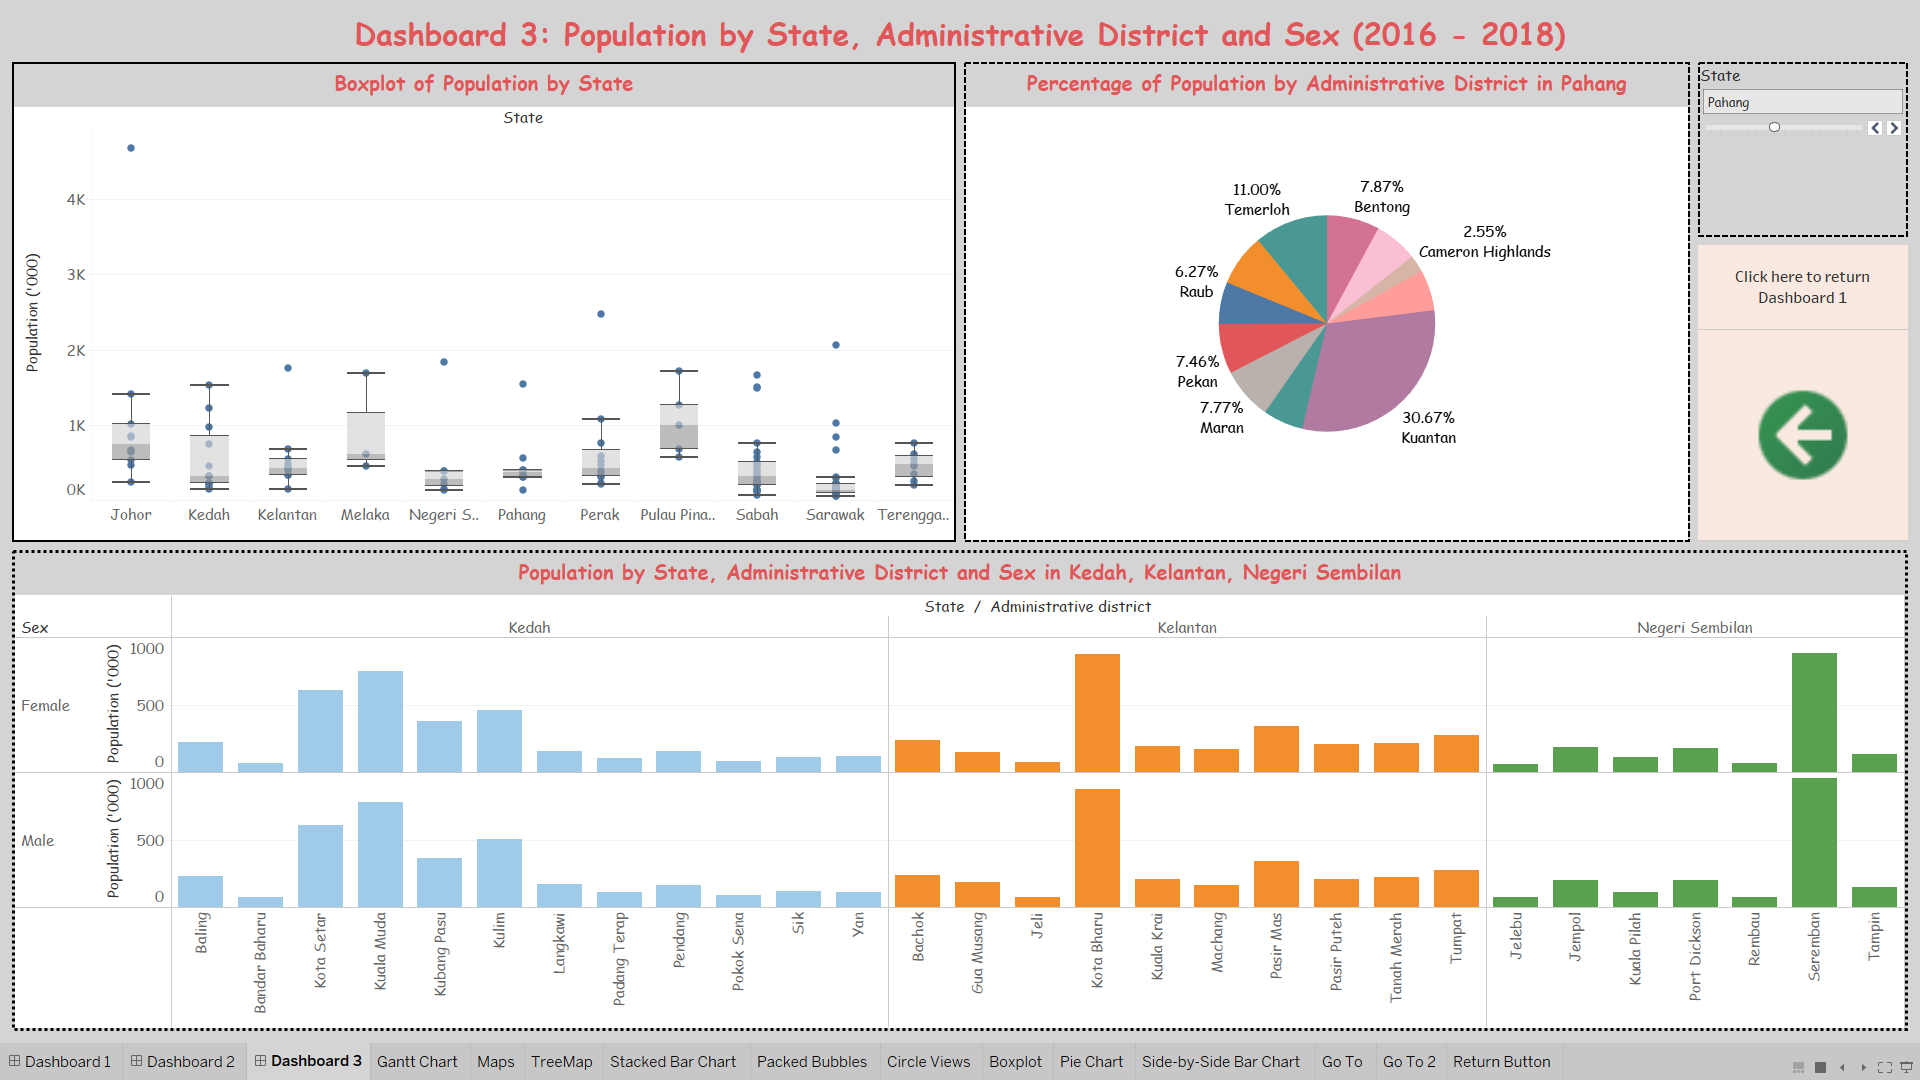

What the dashboard file says about the page in this screenshot:
{"tool":"tableau","page":{"name":"Dashboard 3","canvas":[1000,1000],"units":"permille","ordinal":2},"visuals":[{"type":"worksheet","box":[0,0,1000,1000]},{"type":"worksheet","param":"vert","box":[4.8,9.2,990.3,981.7]},{"type":"worksheet","box":[4.8,9.2,990.3,57.3]},{"type":"worksheet","param":"horz","box":[4.8,66.4,990.3,924.4]},{"type":"worksheet","param":"horz","box":[4.8,66.4,990.3,924.4]},{"type":"worksheet","box":[4.8,66.4,990.3,924.4]},{"type":"worksheet","title":"Boxplot","mark":"Circle","rows":["Population ('000)"],"cols":["State"],"box":[4.8,66.4,495.2,462.2]},{"type":"worksheet","title":"Pie Chart","mark":"Pie","box":[500,66.4,381.7,462.2]},{"type":"worksheet","param":"vert","box":[881.7,66.4,113.5,462.2]},{"type":"worksheet","title":"Pie Chart","mark":"Pie","param":"[federated.0jr2auv1nwskjz16j5b7o0mq9nzm].[none:State:nk]","box":[881.7,66.4,113.5,209.6]},{"type":"worksheet","title":"Return Button","mark":"Shape","cols":["Calculation_1950058685120786434"],"box":[881.7,276.1,113.5,252.6]},{"type":"worksheet","title":"Side-by-Side Bar Chart","mark":"Automatic","rows":["Sex","Population ('000)"],"cols":["State","Administrative district"],"box":[4.8,528.6,990.3,462.2]}]}

Visuals, with their boxes on the dashboard's canvas, which has no fixed pixel size, in thousandths of its width and height (x1, y1, x2, y2). These are canvas units, not pixel positions in the 1920x1080 screenshot, which may show the page scaled, cropped or inside an application window:
worksheet: {"x1": 0, "y1": 0, "x2": 1000, "y2": 1000}
worksheet: {"x1": 5, "y1": 9, "x2": 995, "y2": 991}
worksheet: {"x1": 5, "y1": 9, "x2": 995, "y2": 66}
worksheet: {"x1": 5, "y1": 66, "x2": 995, "y2": 991}
worksheet: {"x1": 5, "y1": 66, "x2": 995, "y2": 991}
worksheet: {"x1": 5, "y1": 66, "x2": 995, "y2": 991}
"Boxplot" worksheet (Circle marks): {"x1": 5, "y1": 66, "x2": 500, "y2": 529}
"Pie Chart" worksheet (Pie marks): {"x1": 500, "y1": 66, "x2": 882, "y2": 529}
worksheet: {"x1": 882, "y1": 66, "x2": 995, "y2": 529}
"Pie Chart" worksheet (Pie marks): {"x1": 882, "y1": 66, "x2": 995, "y2": 276}
"Return Button" worksheet (Shape marks): {"x1": 882, "y1": 276, "x2": 995, "y2": 529}
"Side-by-Side Bar Chart" worksheet: {"x1": 5, "y1": 529, "x2": 995, "y2": 991}
